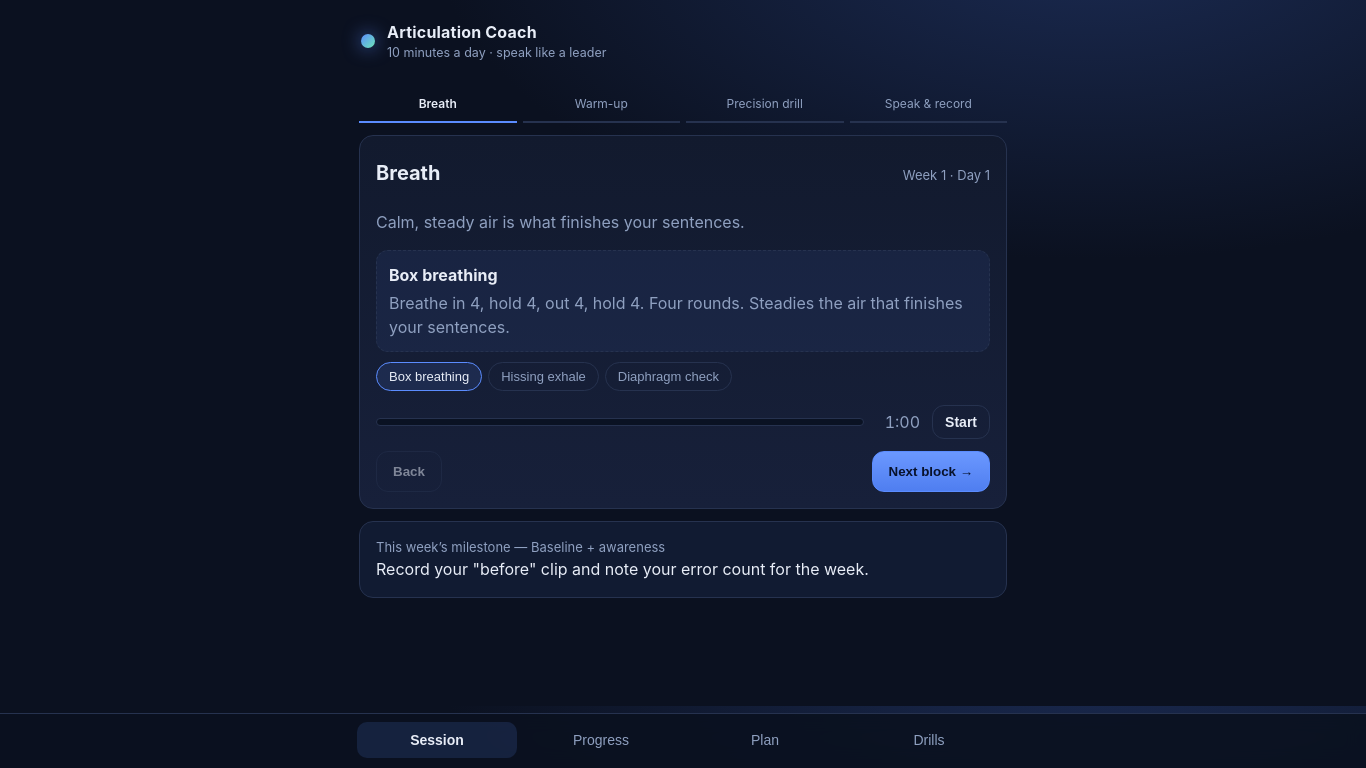
Scenario: App shell + navigation › switches between every tab
Click the button "Drills" at point(929, 740), box [849,722,1009,758]
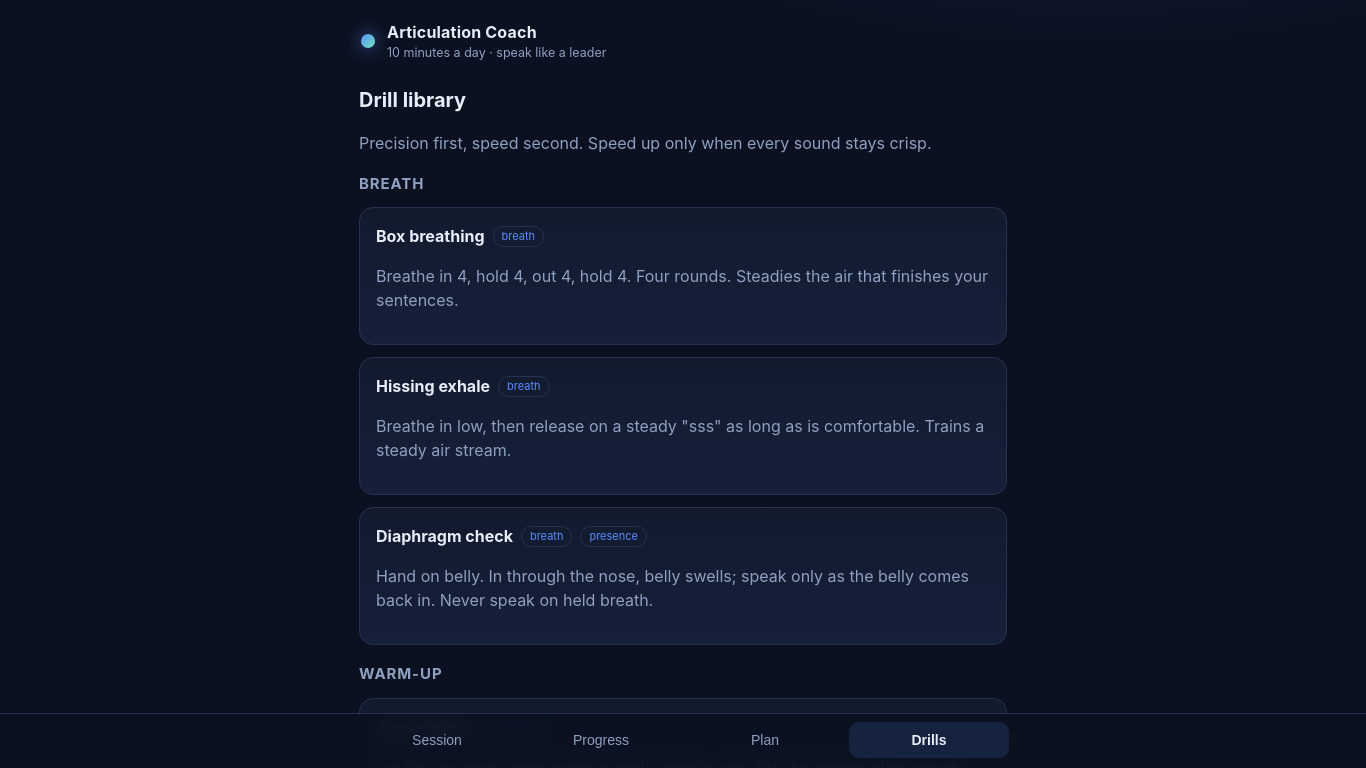
Expected: the heading "Drill library" is shown, [359,88,466,112]
Click the button "Plan" at point(765, 740), box [685,722,845,758]
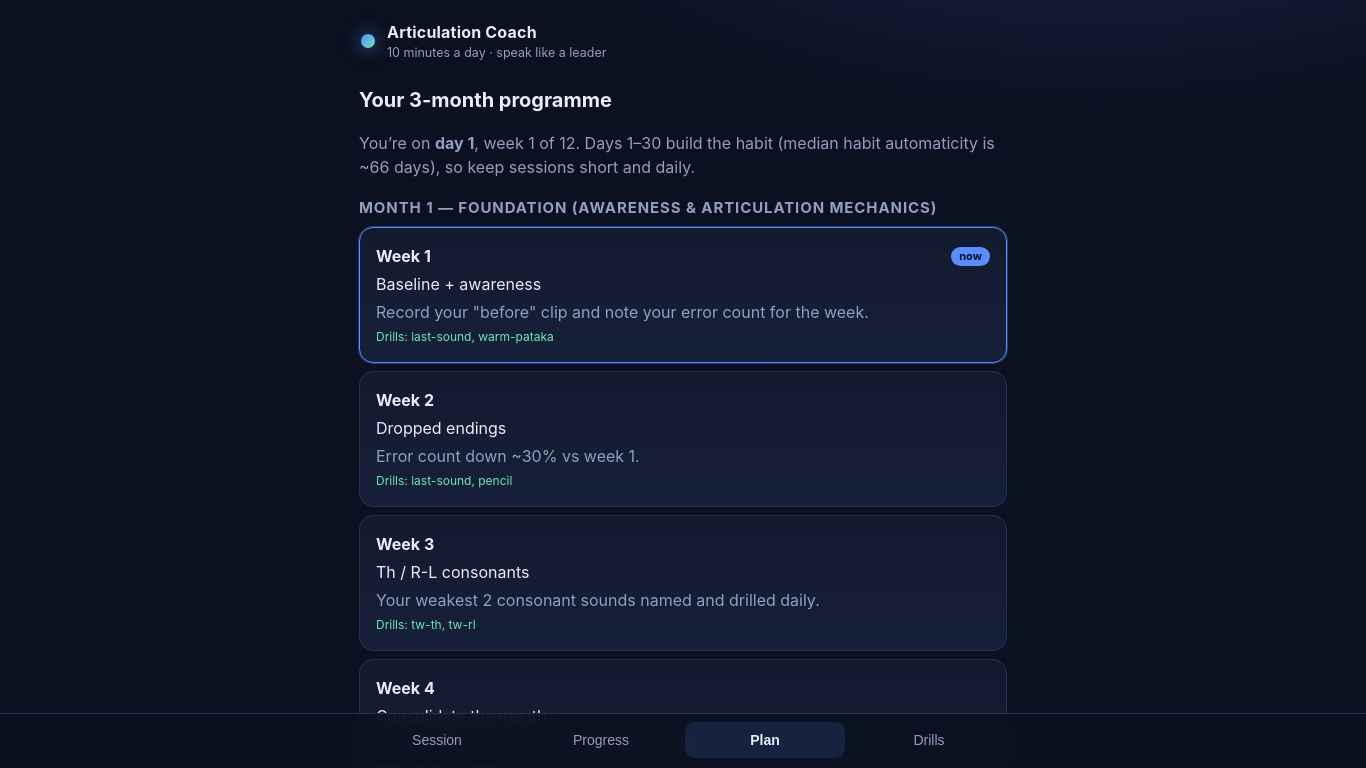
Expected: the heading "Your 3-month programme" is shown, [359,88,612,112]
Click the button "Progress" at point(601, 740), box [521,722,681,758]
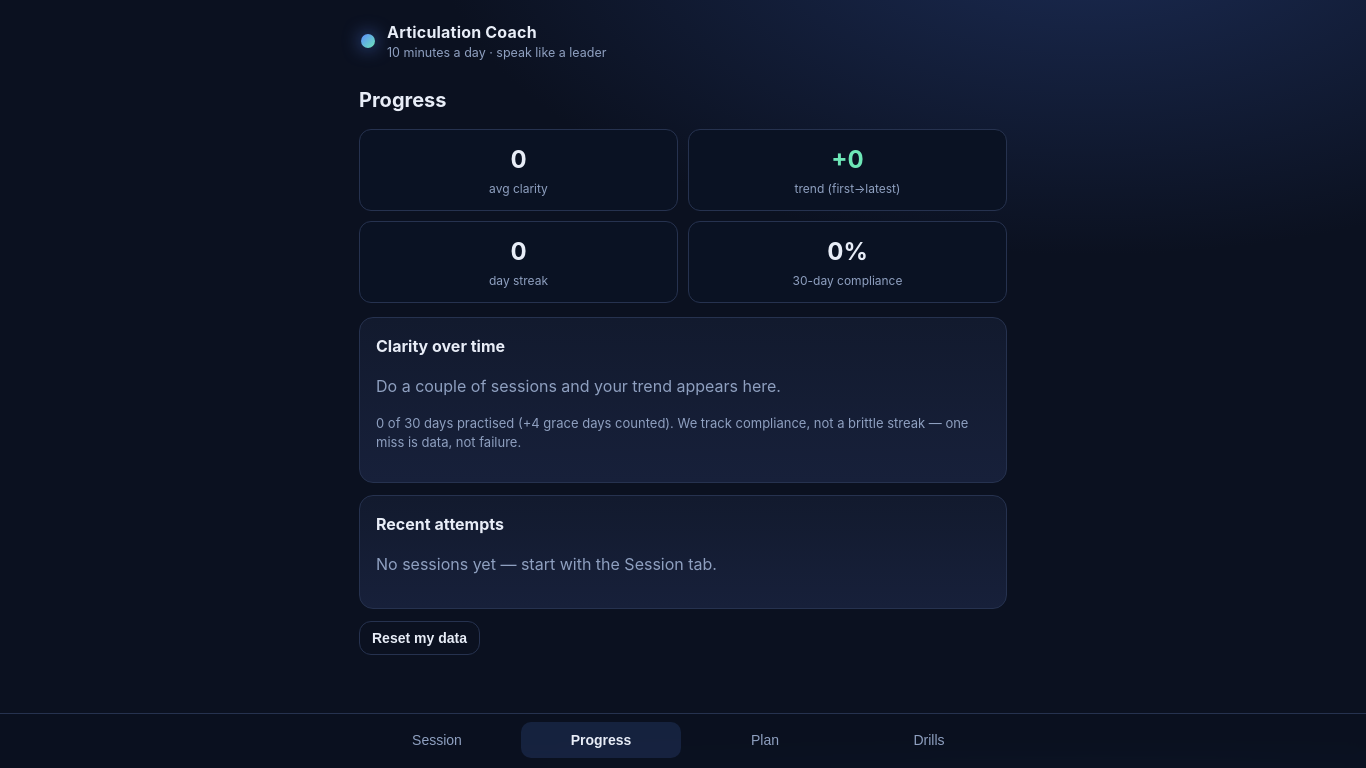
Expected: the heading "Progress" is shown, [359,88,446,112]
